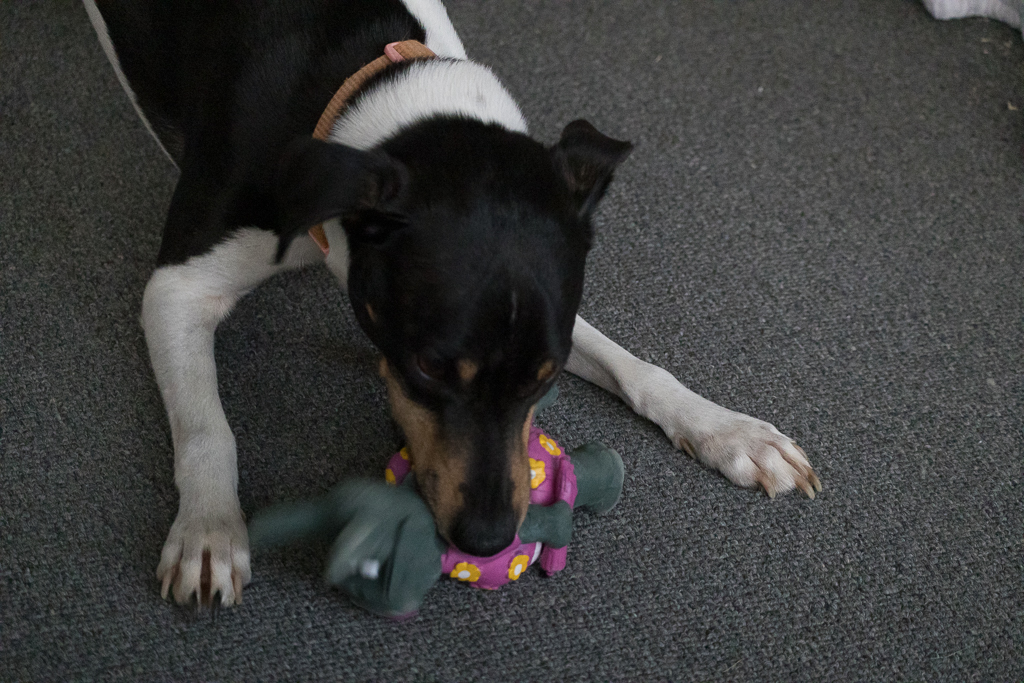Dog: (65, 0, 831, 627)
Humanoid: (212, 382, 636, 635)
